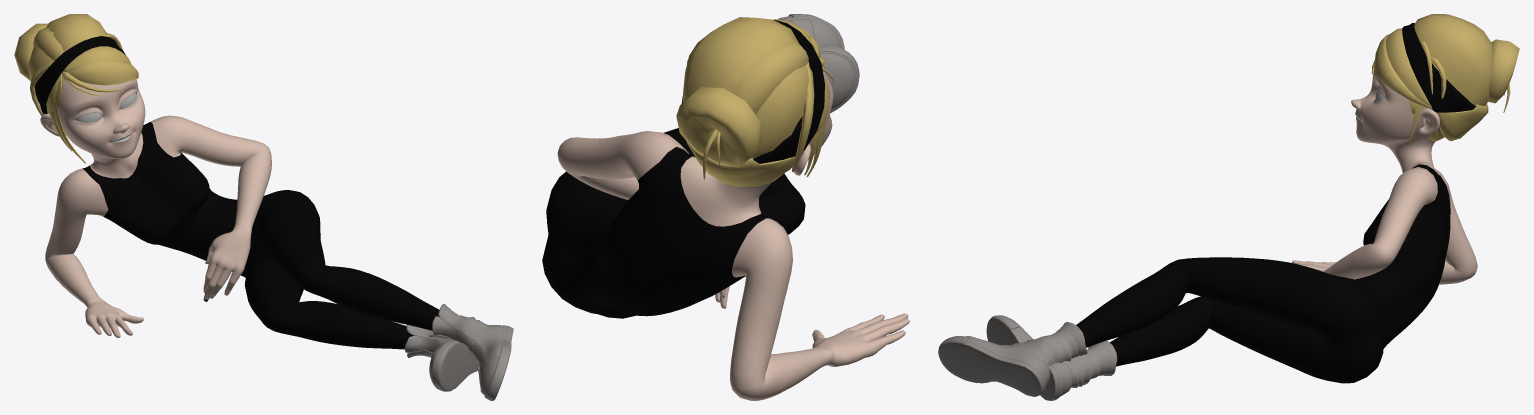
The model's file is girl_01.fbx.
The picture shows the model from 3 angles, left to right: view 1: azimuth 30°, elevation 25°; view 2: azimuth 150°, elevation 25°; view 3: azimuth 270°, elevation 25°; orthographic projection. The views are drawn at different scales.
Visible parts, largest first — view 1: girl_01; view 2: girl_01; view 3: girl_01.
Boxes of the visible parts, x1,y1,x2,y2 form: girl_01: (14,14,513,400); girl_01: (542,14,909,400); girl_01: (938,14,1519,400).
Size of the model in its own units: 77.9 by 72.42 by 133.
